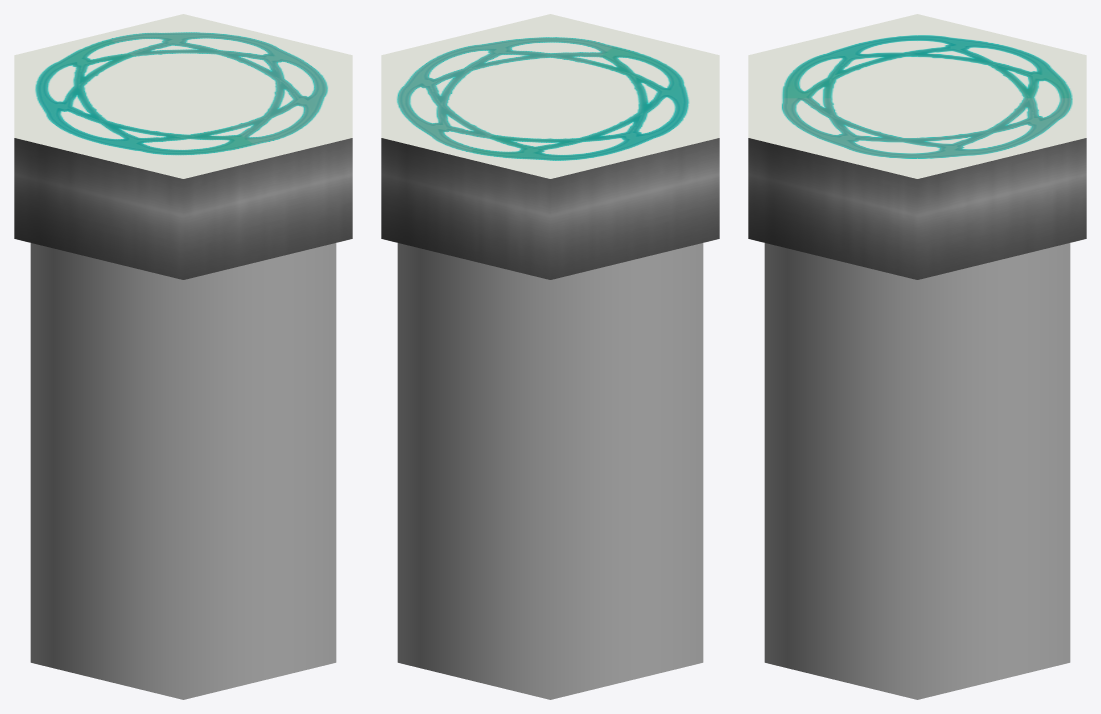
Rendered from Canister_I.FBX.
The picture shows the model from 3 angles, left to right: view 1: azimuth 30°, elevation 25°; view 2: azimuth 150°, elevation 25°; view 3: azimuth 270°, elevation 25°; orthographic projection.
Visible parts, largest first — view 1: Cannister_02; view 2: Cannister_02; view 3: Cannister_02.
Boxes of the visible parts, bbox=[...] form: Cannister_02: bbox=[14, 14, 352, 699]; Cannister_02: bbox=[381, 14, 719, 699]; Cannister_02: bbox=[748, 14, 1086, 699].
Size of the model in its own units: 26.59 by 39.72 by 23.03.
